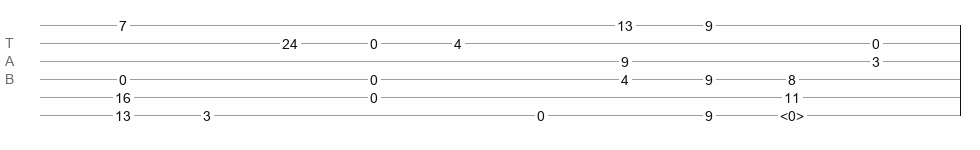0: (119, 72, 127, 82), (370, 72, 378, 82), (370, 90, 378, 100), (370, 36, 378, 46), (537, 108, 545, 118), (872, 36, 880, 46)
11: (784, 90, 800, 100)
13: (115, 108, 131, 118), (617, 18, 633, 28)
16: (115, 90, 131, 100)
24: (282, 36, 298, 46)
3: (203, 108, 211, 118), (872, 54, 880, 64)
4: (454, 36, 462, 46), (621, 72, 629, 82)
7: (119, 18, 127, 28)
8: (788, 72, 796, 82)
9: (621, 54, 629, 64), (705, 18, 713, 28), (705, 108, 713, 118), (705, 72, 713, 82)
harmonic: (780, 108, 804, 118)
